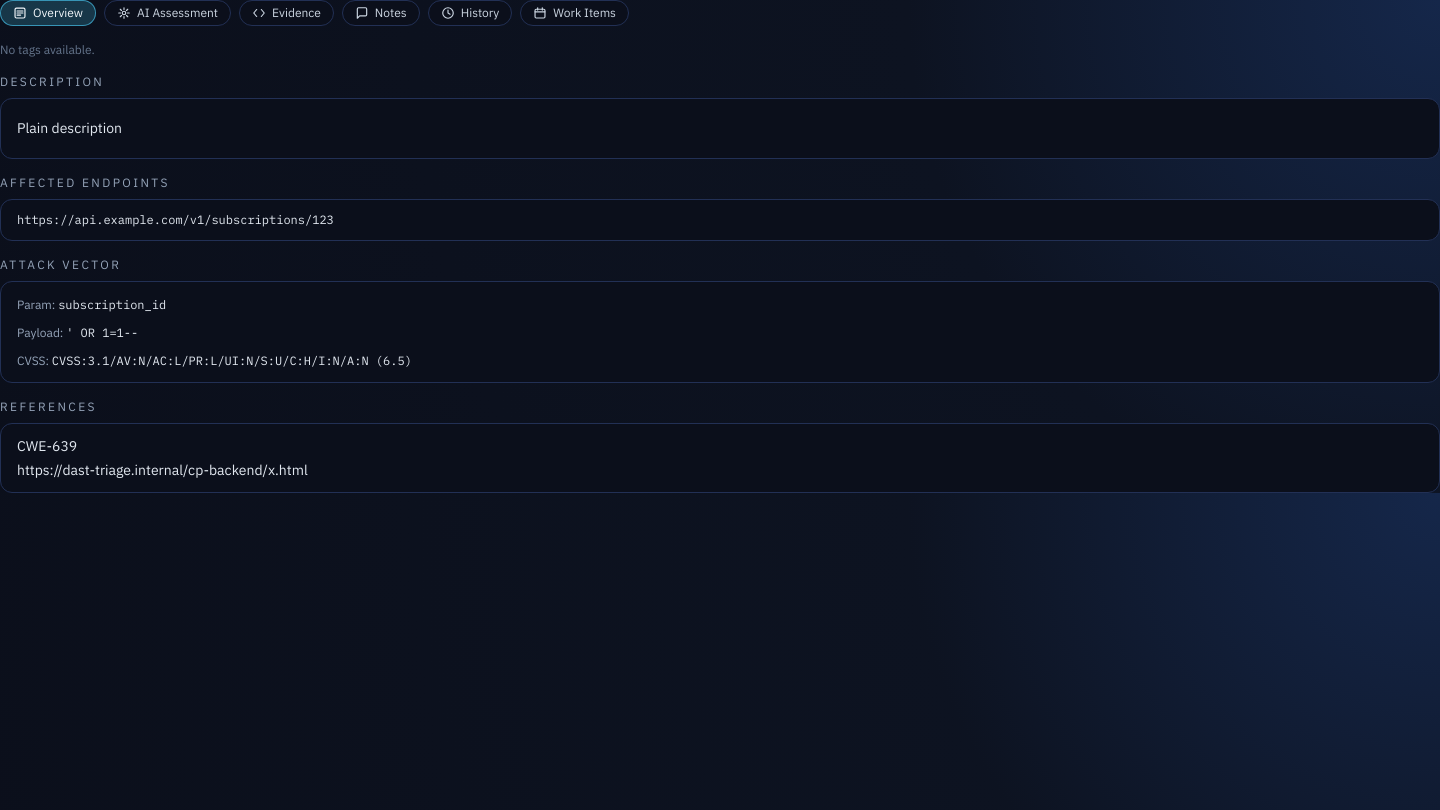
Test: FindingDetailTabs — DAST finding view › relabels the Code tab to Evidence and shows structured steps to reproduce for a DAST finding
Click the button "Evidence" at (286, 13), box [239, 0, 334, 26]
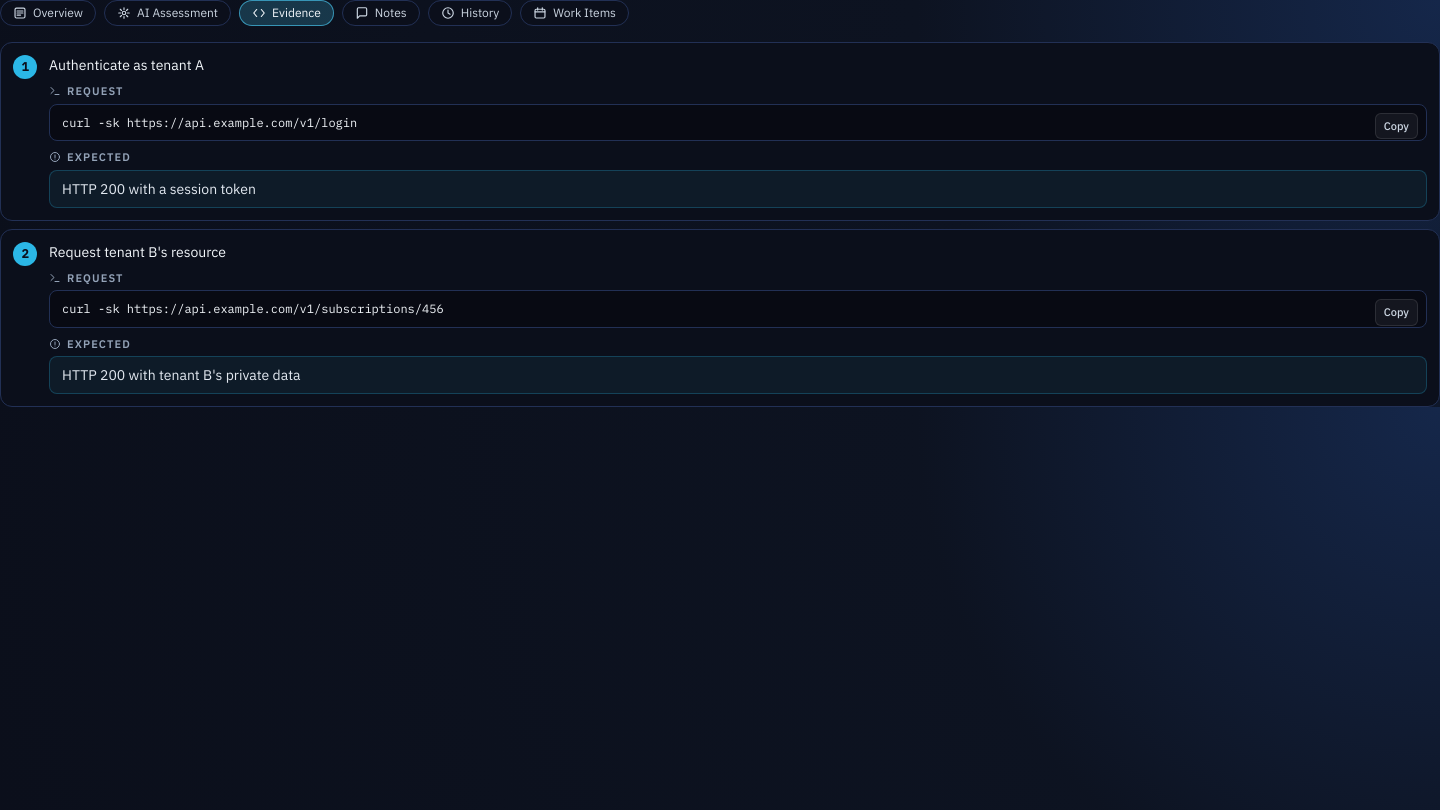
Expected: the text "Authenticate as tenant A" is shown, [49, 56, 204, 74]
Expected: the text "Request tenant B's resource" is shown, [49, 242, 226, 260]
Expected: the text "curl -sk https://api.example.com/v1/login" is shown, [62, 114, 357, 130]
